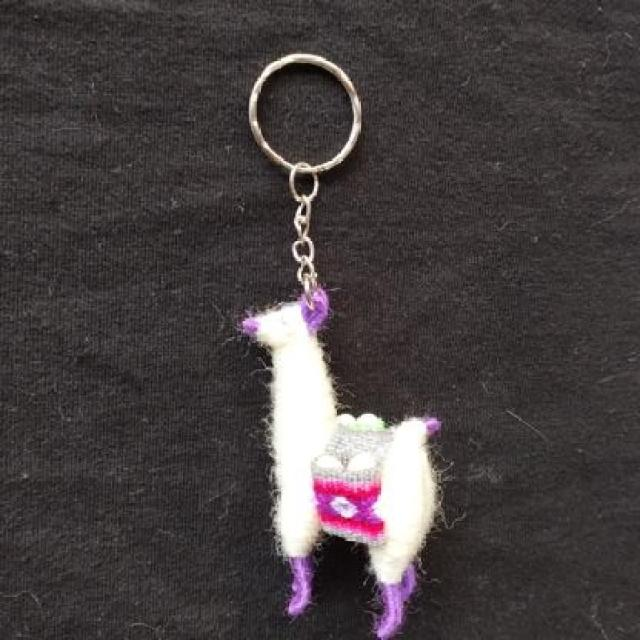Llavero: (238, 292, 444, 639)
